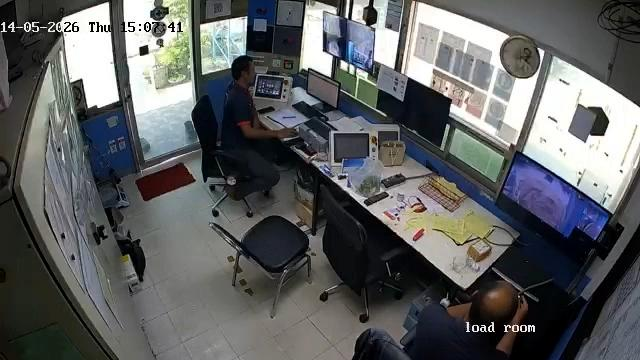Head: (468, 281, 517, 324), (228, 54, 259, 86)
People: (350, 278, 524, 360), (222, 53, 281, 201)
Phone: (257, 106, 276, 115)
